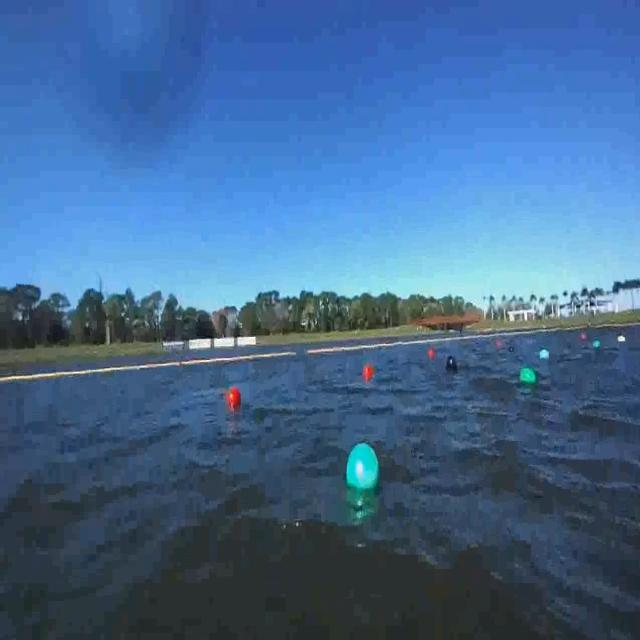black-buoy: (447, 355, 459, 372)
green-buoy: (346, 443, 380, 492), (520, 366, 536, 384), (539, 350, 549, 360), (592, 341, 599, 350)
red-buoy: (231, 388, 242, 405), (363, 364, 373, 381)
